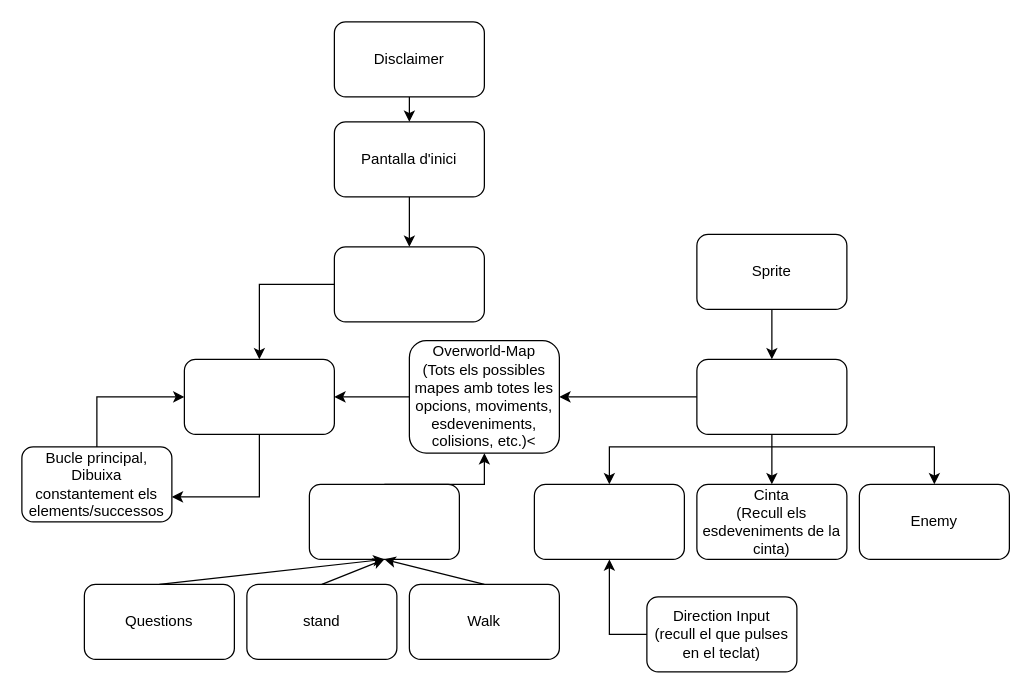
Some shapes in this 1031 by 694 pixel diagram are drawn without their labels. Here are the shapes that lost their labels. From the top down, the box of each, then its label:
(333, 246, 484, 322): Inici del escenari
(183, 358, 334, 434): Overworld (Carrega el mapa sel·leccionat)
(696, 358, 847, 434): GameObject (Qualsevol entitat dins del joc)
(308, 483, 459, 559): Overworld Event (Obté qué ha de fer davant els esdeveniments)
(533, 483, 684, 559): Person
